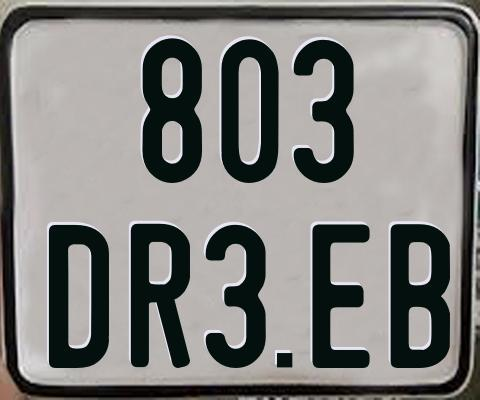0: (220, 37, 280, 182)
3: (293, 37, 357, 183), (203, 225, 265, 368)
8: (141, 35, 206, 183)
B: (391, 223, 451, 368)
D: (48, 225, 114, 369)
E: (310, 222, 371, 372)
R: (130, 223, 189, 373)
